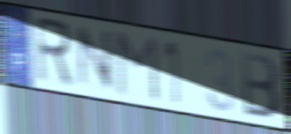1: (162, 39, 183, 106)
3: (203, 47, 235, 113)
B: (239, 50, 281, 123)
M: (115, 29, 161, 104)
N: (75, 25, 115, 94)
R: (32, 14, 76, 91)
